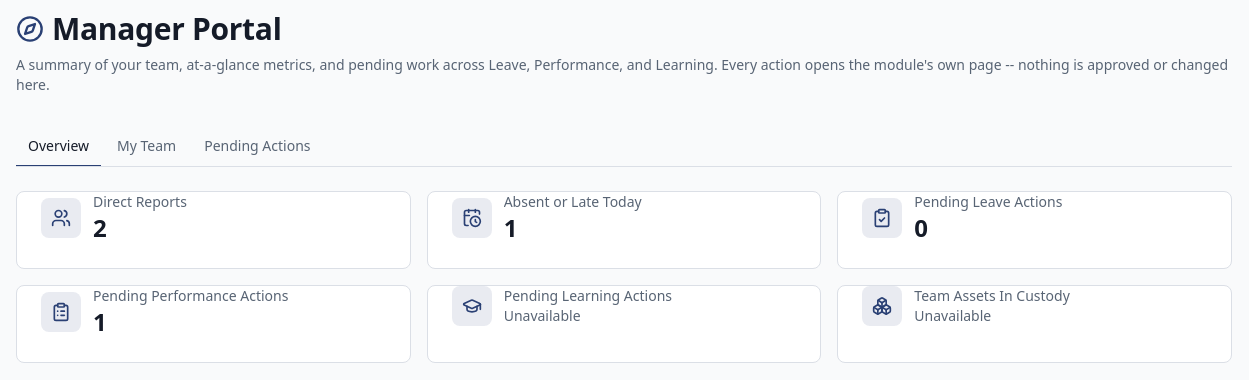
Test case: Manager Portal page › My Team › renders a populated team with only the narrow DTO fields
The image size is (1249, 380).
Click the tab with test id "tab-manager-my-team" at (147, 147), box [105, 127, 188, 167]
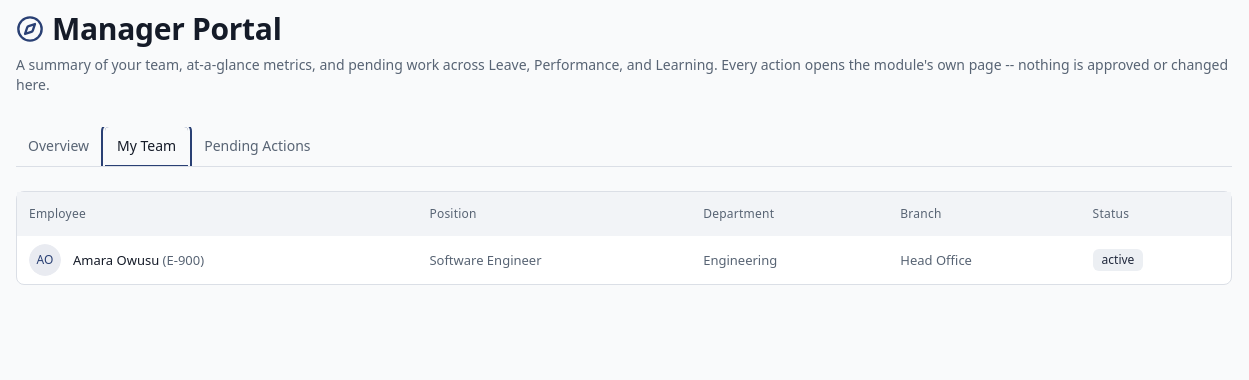
Expected: the row with test id "row-manager-team-900" shows "Amara Owusu", [17, 236, 1231, 284]
Expected: the row with test id "row-manager-team-900" shows "Software Engineer", [429, 251, 542, 269]
Expected: the row with test id "row-manager-team-900" shows "Engineering", [703, 251, 777, 269]
